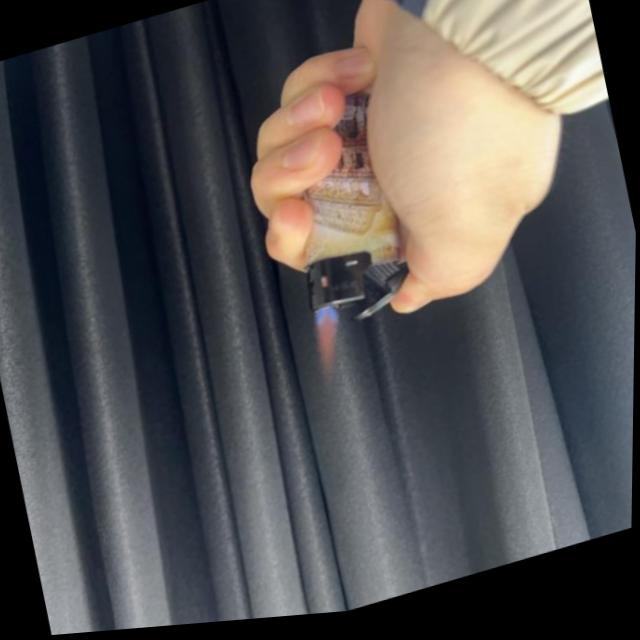Fire: (307, 308, 351, 384)
